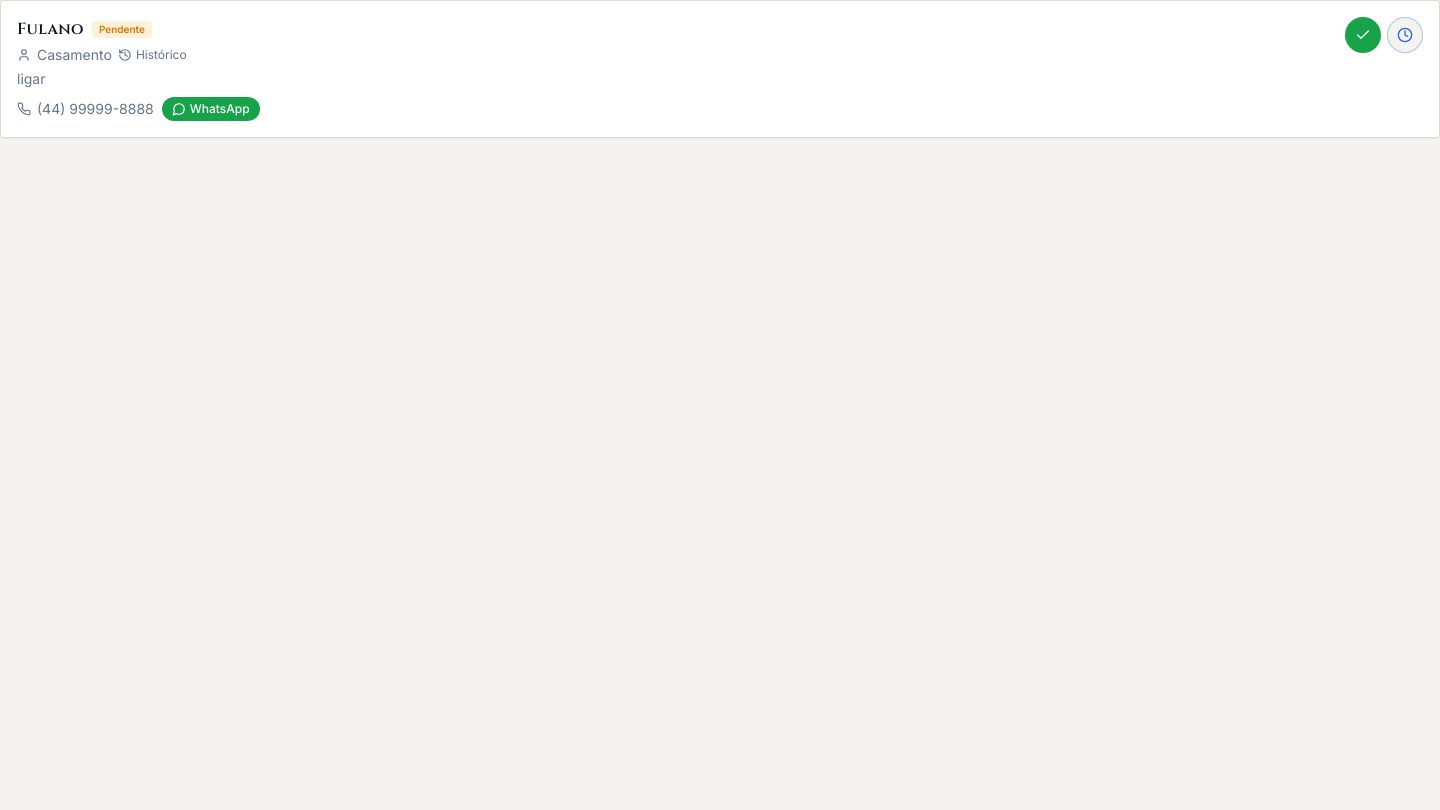
AtividadeCard — oportunidade › atividade avulsa não oferece desfecho
What coordinates should you click on to do the following:
click the button named "Concluir"
I would click on:
 (1363, 35)
Its box is x1=1345 y1=17 x2=1381 y2=53.
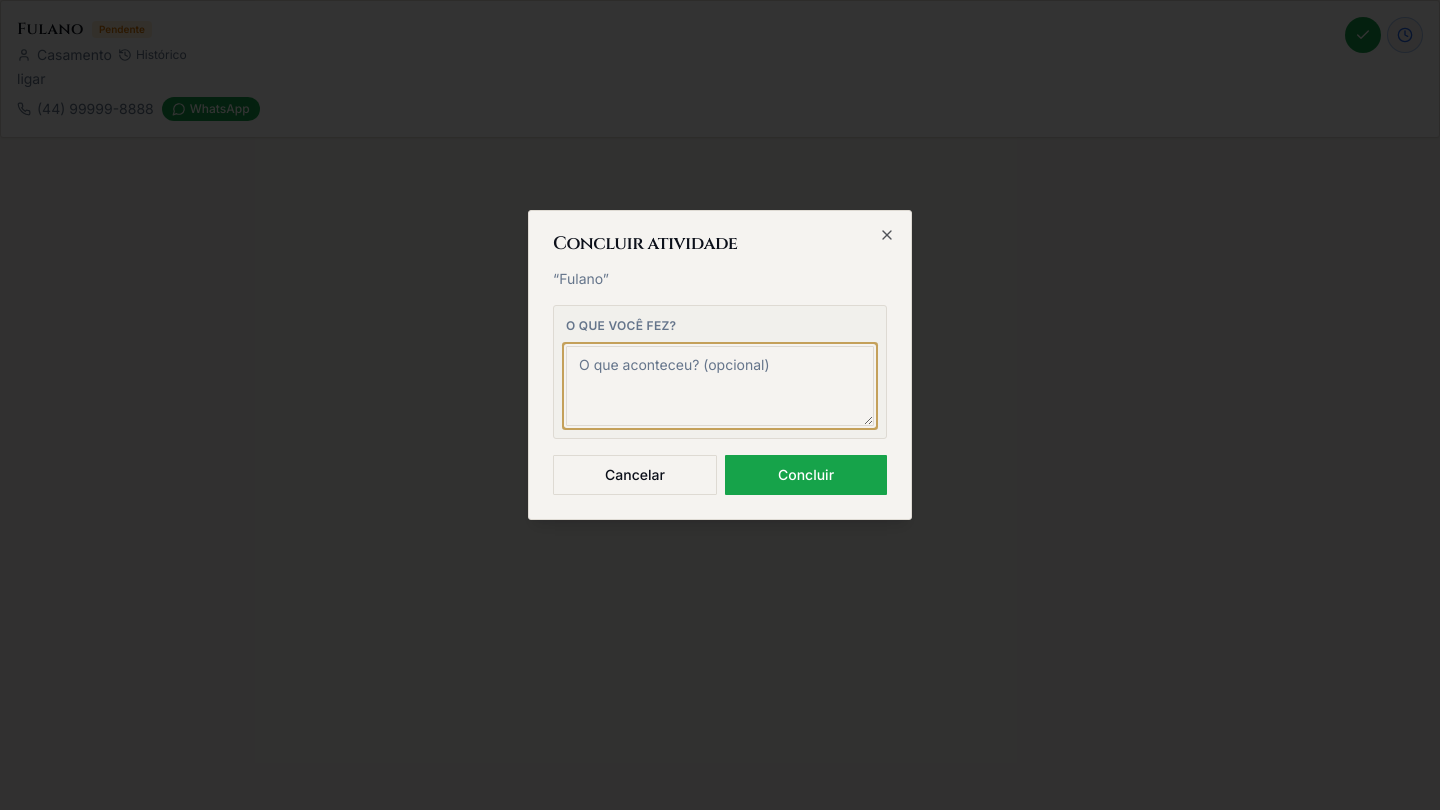
expect the text box with placeholder "O que aconteceu? (opcional)" is shown: met, box x1=566 y1=346 x2=874 y2=426
